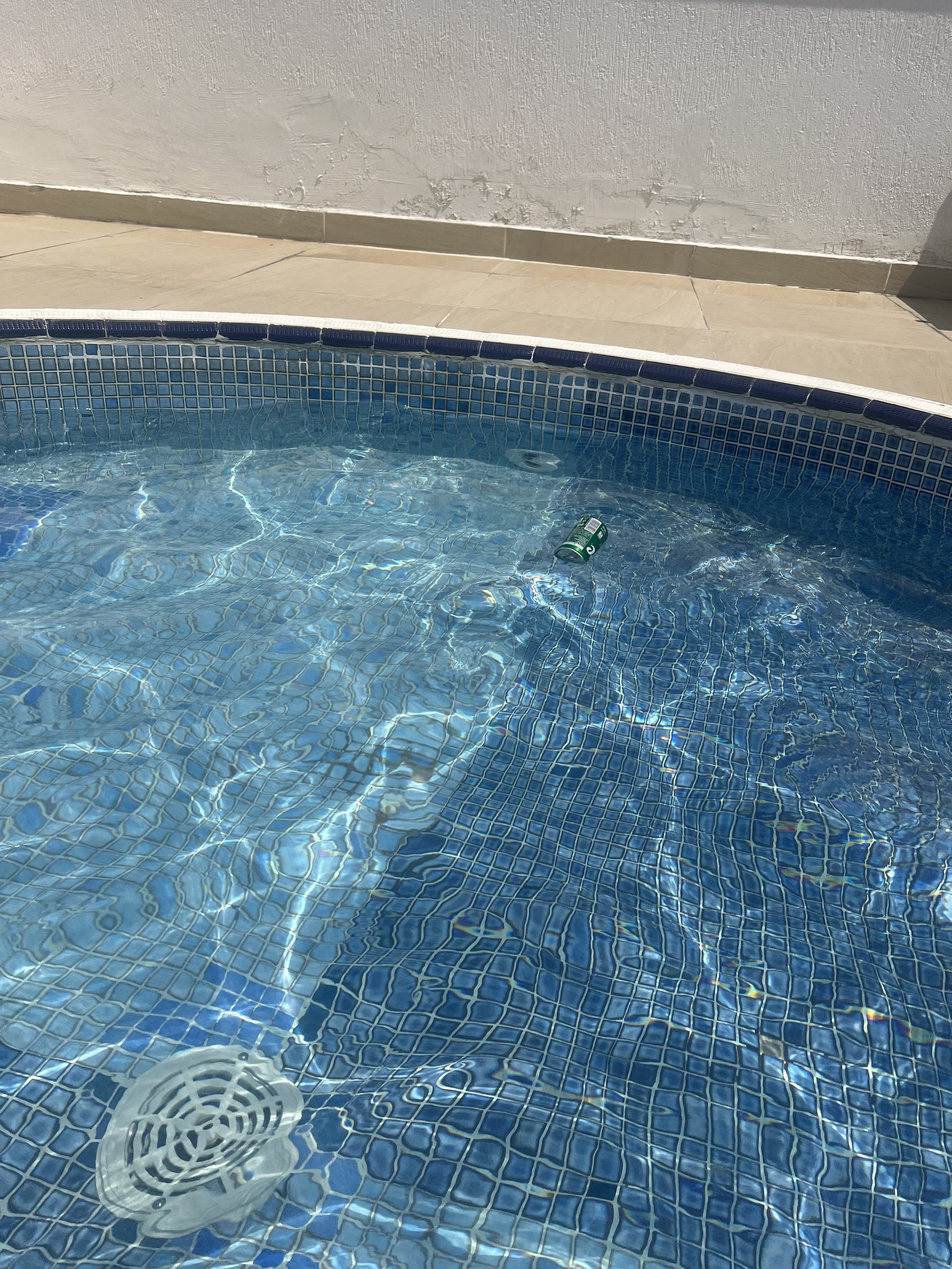debris: (551, 494, 609, 587)
